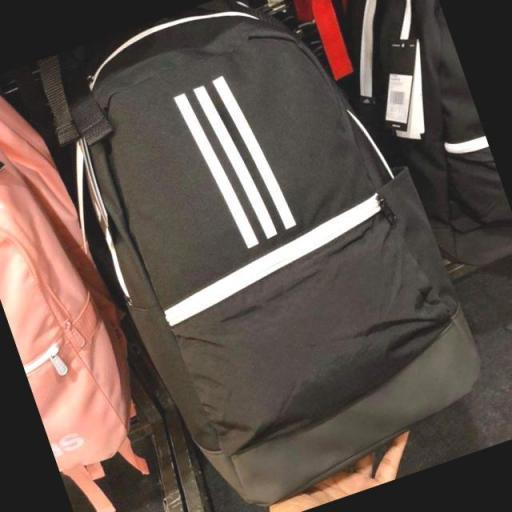bag: (70, 22, 492, 494)
